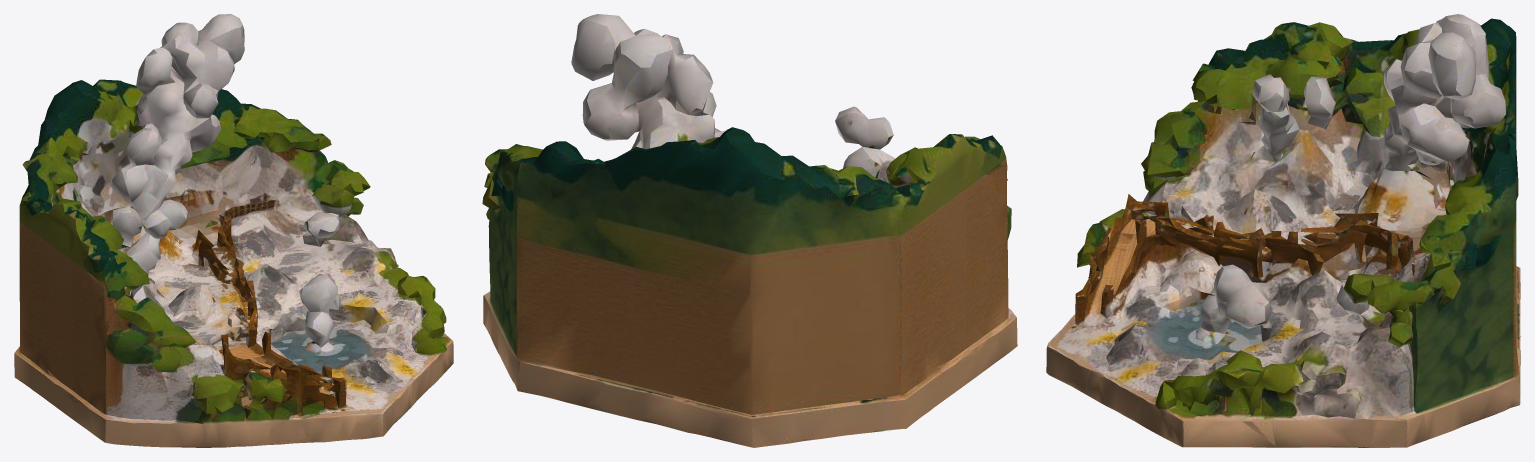
The model's file is unzen-jigoku.glb.
The picture shows the model from 3 angles, left to right: view 1: azimuth 30°, elevation 25°; view 2: azimuth 150°, elevation 25°; view 3: azimuth 270°, elevation 25°; orthographic projection. The views are drawn at different scales.
Visible parts, largest first — view 1: logan-textured.obj; view 2: logan-textured.obj; view 3: logan-textured.obj.
Part boxes in pixels (x1=…): logan-textured.obj: x1=14, y1=14, x2=453, y2=447; logan-textured.obj: x1=482, y1=14, x2=1017, y2=447; logan-textured.obj: x1=1046, y1=14, x2=1520, y2=447.
Size of the model in its own units: 0.9978 by 0.8076 by 1.
Materials: 1 (1 with a texture image).
